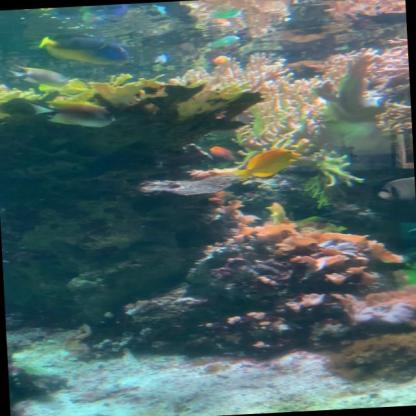fish: (18, 91, 122, 135), (36, 31, 134, 70), (0, 62, 79, 95), (233, 148, 303, 180), (377, 176, 415, 202), (200, 142, 239, 165), (307, 0, 357, 3)
